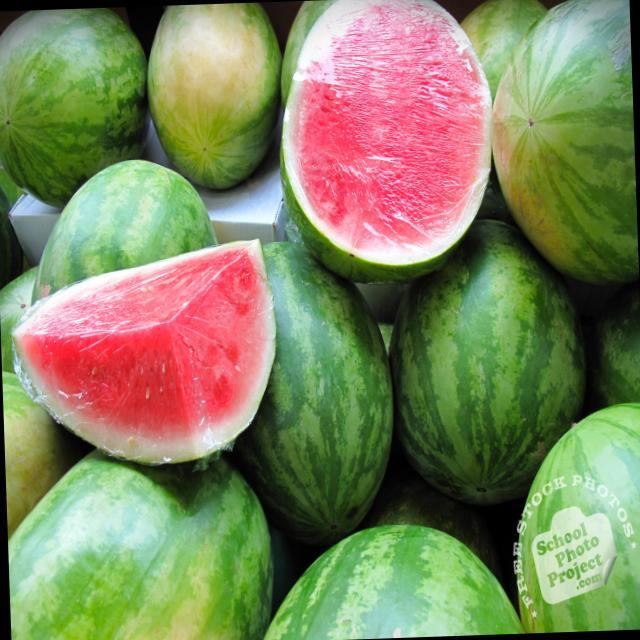WATERMELON: (270, 0, 502, 273), (4, 429, 276, 640), (20, 235, 284, 446), (490, 0, 639, 301), (252, 230, 393, 540), (396, 233, 574, 473), (256, 514, 525, 640), (519, 395, 640, 633), (138, 1, 282, 174), (0, 6, 131, 183), (31, 164, 220, 278)
